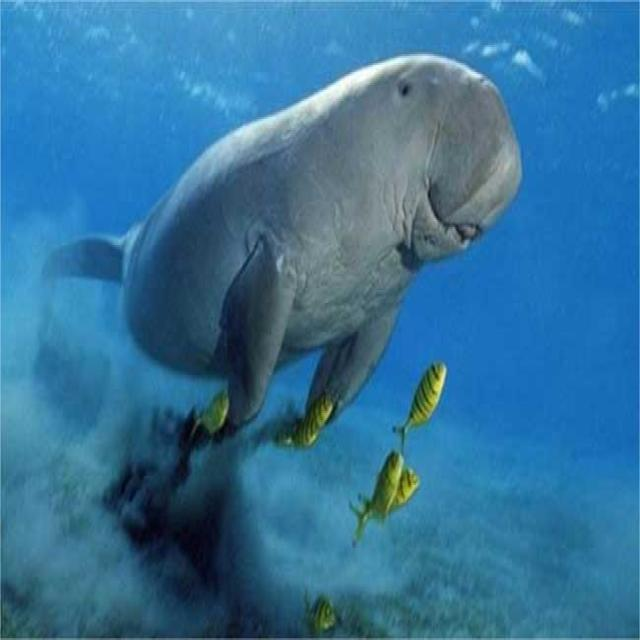Dugong -Endangered-: (50, 56, 523, 423)
